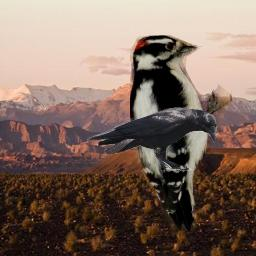Crow: (87, 107, 217, 171)
Woodpecker: (130, 35, 232, 231)
